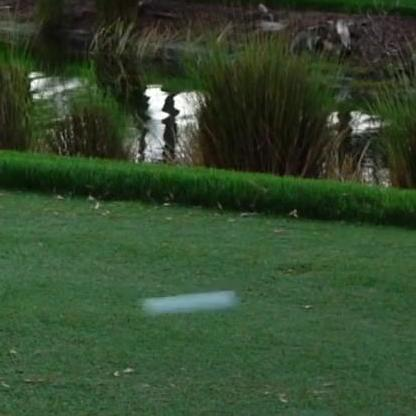golfball: (137, 283, 242, 318)
